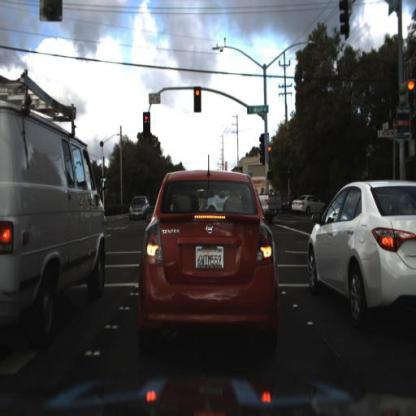car: (1, 72, 113, 333), (140, 170, 277, 351), (303, 175, 416, 319), (289, 185, 328, 218), (252, 178, 281, 220), (290, 193, 325, 215), (130, 194, 149, 221)
trafficLight-Red: (406, 79, 416, 115), (193, 87, 202, 116), (266, 145, 274, 163), (408, 78, 416, 95)
trafficLight-RedLeft: (143, 111, 151, 141), (145, 111, 151, 127)
truck: (2, 74, 107, 331)
